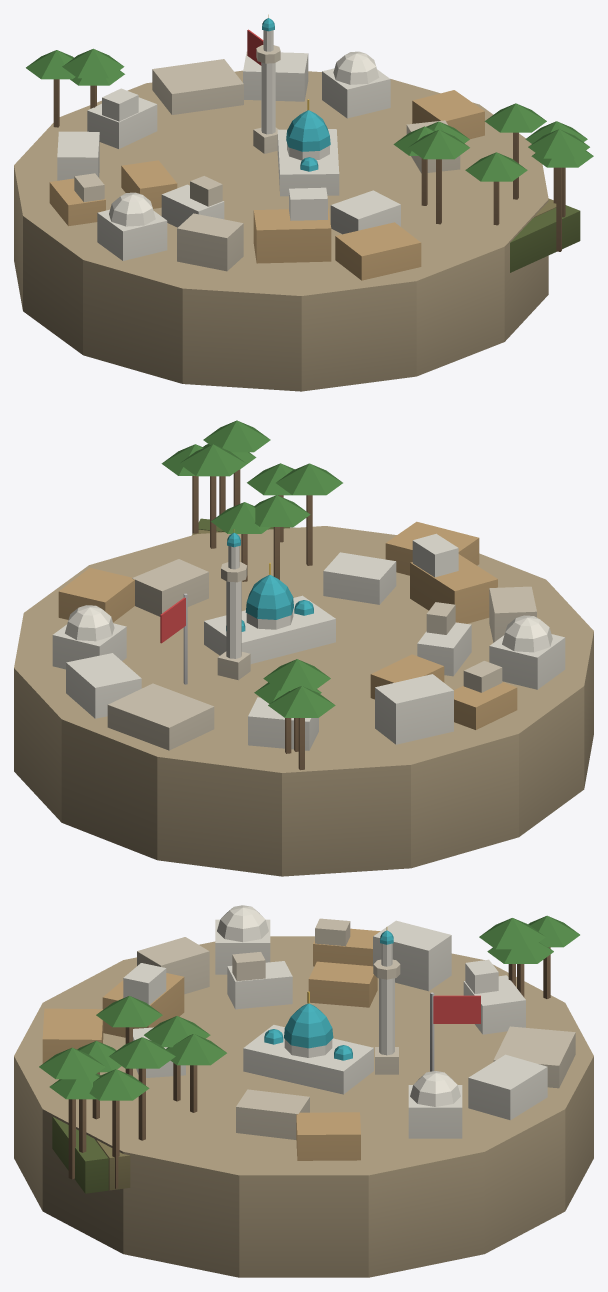
The model's file is village_isl_b.glb.
The picture shows the model from 3 angles, top to bottom: view 1: azimuth 30°, elevation 25°; view 2: azimuth 150°, elevation 25°; view 3: azimuth 270°, elevation 25°; orthographic projection. The views are drawn at different scales.
Visible parts, largest first — view 1: village_isl_b; view 2: village_isl_b; view 3: village_isl_b.
Boxes of the visible parts, bbox=[...] form: village_isl_b: bbox=[14, 14, 593, 391]; village_isl_b: bbox=[14, 420, 593, 876]; village_isl_b: bbox=[14, 905, 593, 1277].
Size of the model in its own units: 1.85 by 0.8859 by 1.9.
